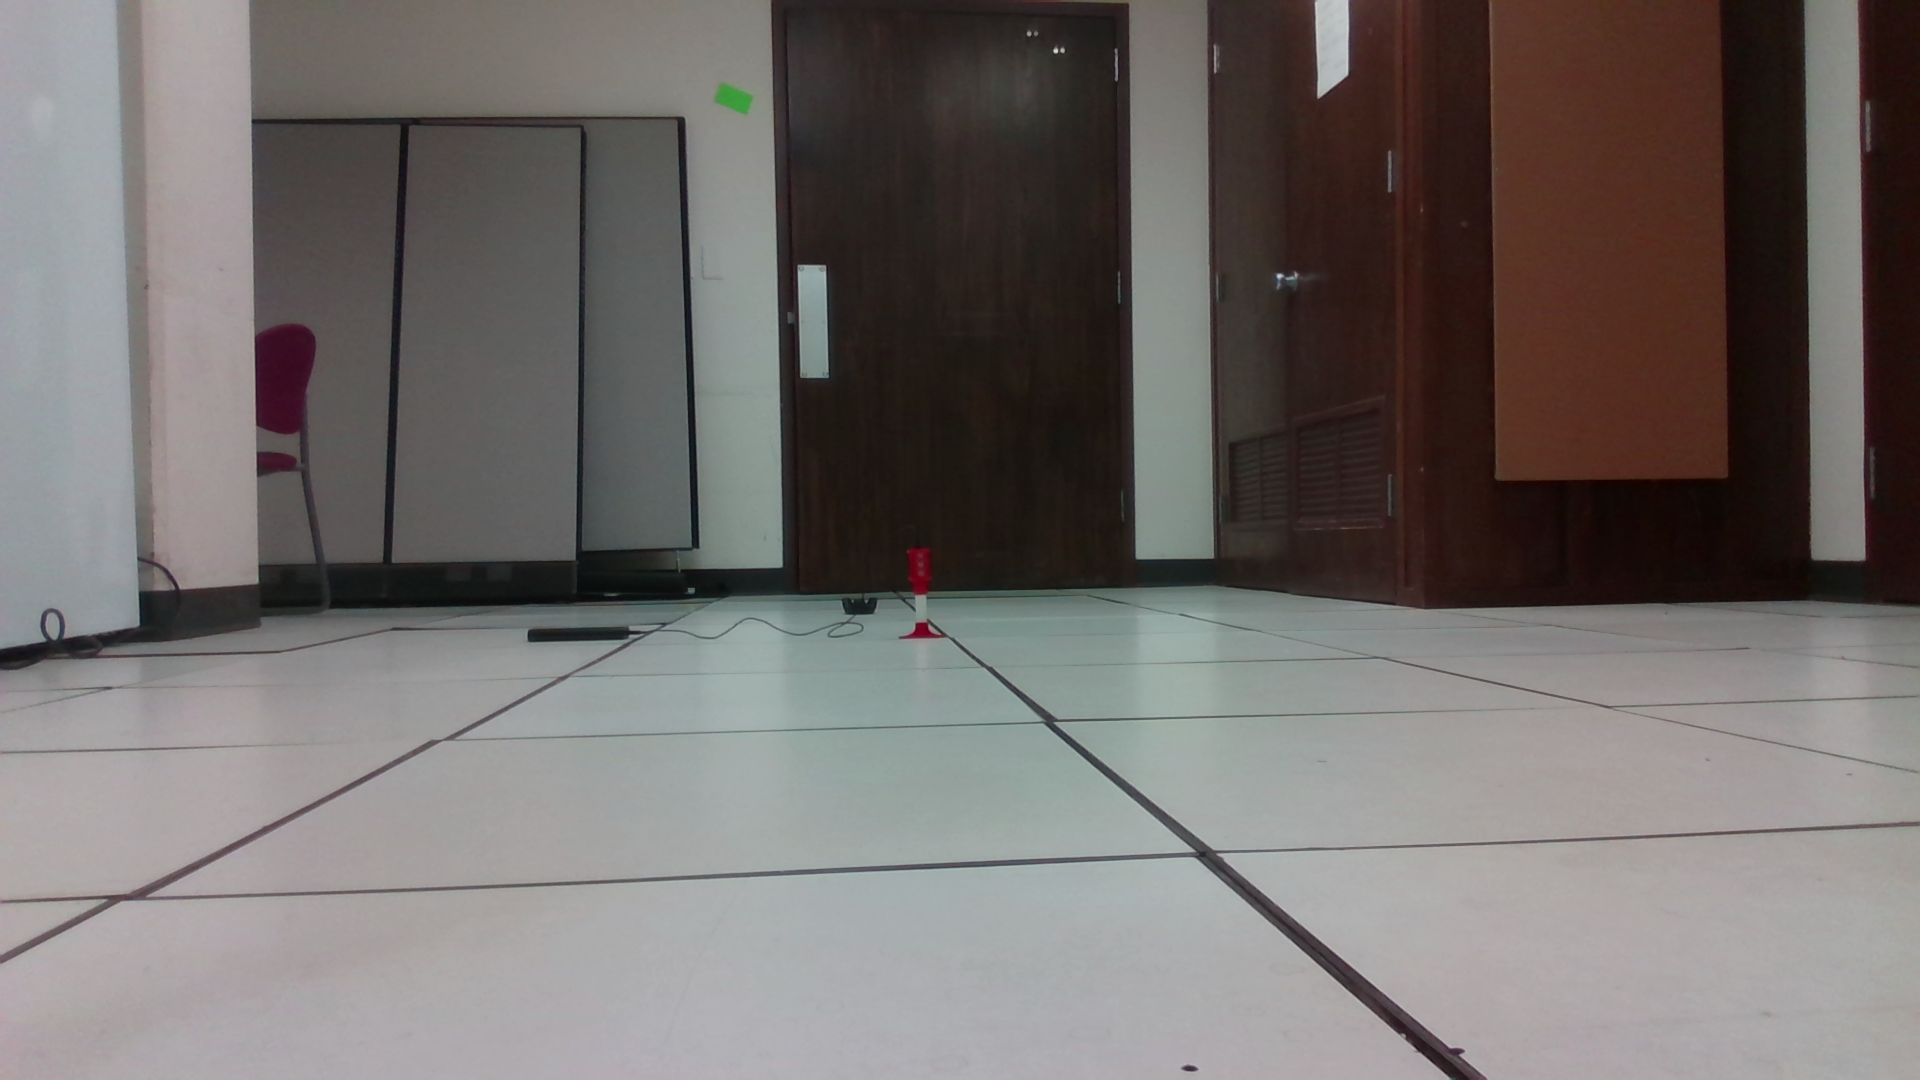stoplight: (907, 549, 935, 593)
